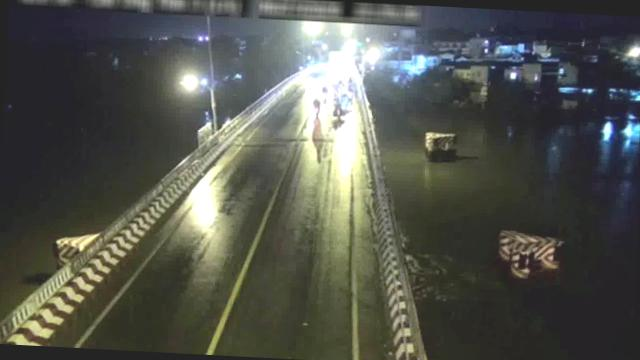Bike: (332, 98, 343, 122), (308, 92, 320, 111)
